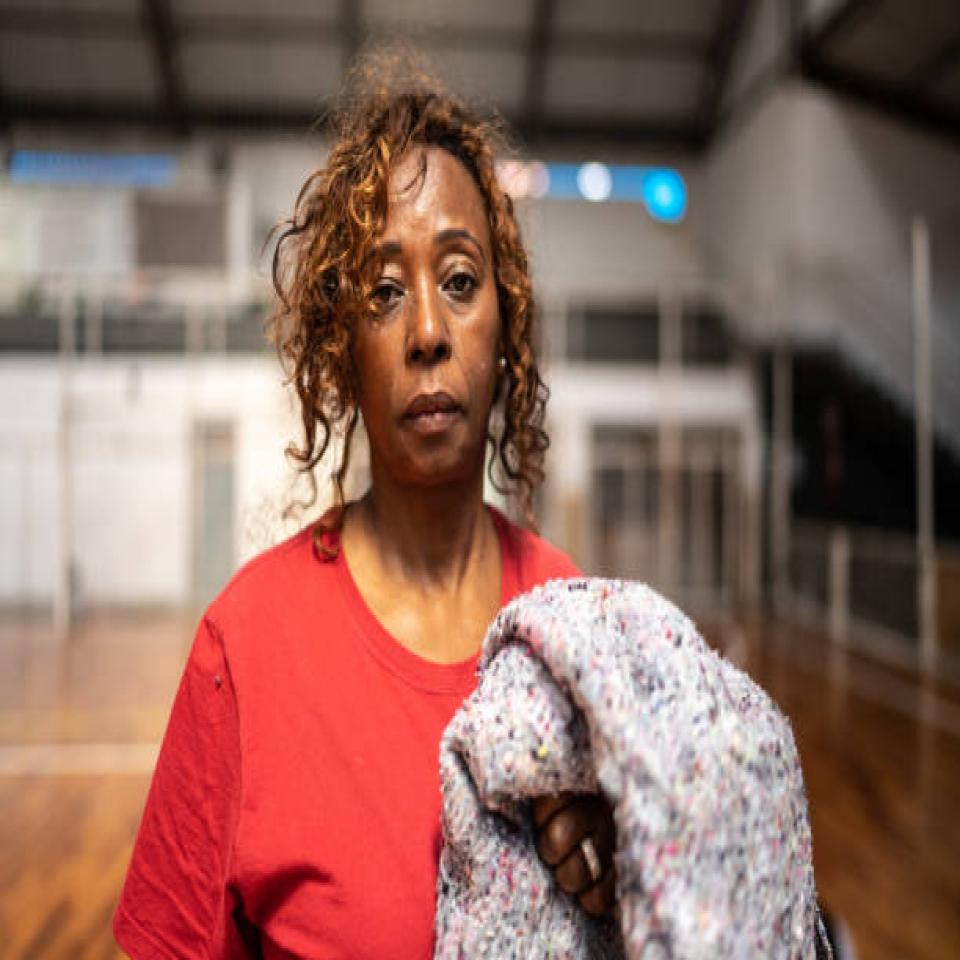Sadness: (342, 154, 498, 468)
